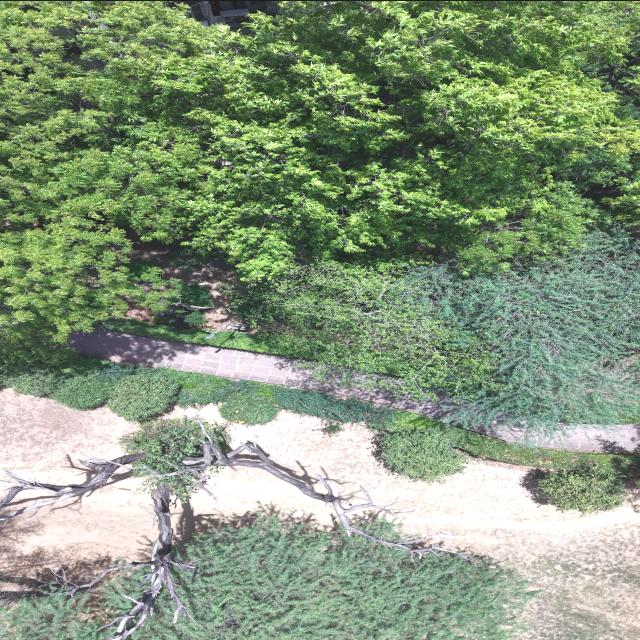DRY_AREA: (229, 411, 639, 639), (70, 329, 445, 417)
PATHWAYS: (71, 330, 443, 417)
VEGETATION_TREE: (0, 1, 639, 455), (1, 1, 639, 427), (2, 1, 637, 278), (2, 418, 533, 639), (2, 420, 532, 639), (103, 230, 637, 428), (1, 417, 465, 606), (0, 349, 637, 480), (243, 230, 639, 429), (134, 516, 534, 639), (405, 230, 639, 429), (241, 261, 492, 396), (0, 349, 395, 427), (375, 412, 639, 513), (374, 410, 639, 496), (0, 216, 178, 341), (375, 411, 639, 492), (2, 350, 236, 415), (394, 413, 639, 475), (0, 356, 179, 419), (442, 425, 639, 475), (101, 318, 297, 356), (120, 418, 201, 492), (173, 372, 280, 423), (272, 386, 397, 428), (0, 590, 106, 639), (375, 427, 467, 481), (94, 363, 180, 419), (536, 468, 623, 514), (48, 375, 110, 408), (180, 310, 205, 326), (320, 422, 343, 434)
